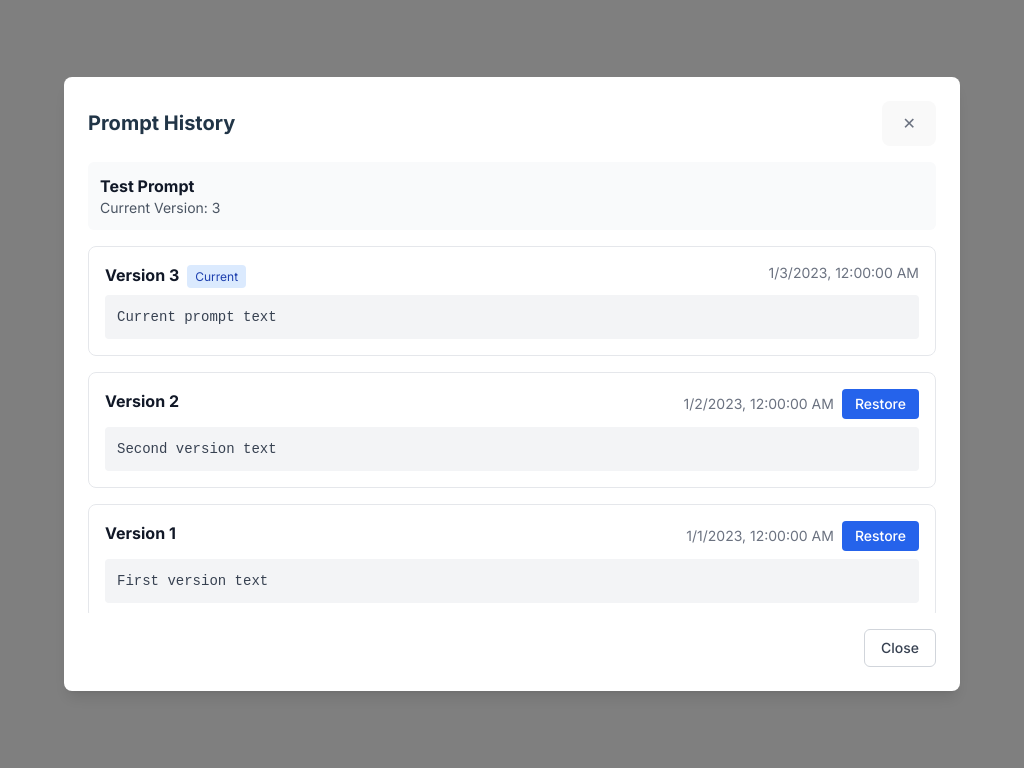
PromptHistoryModal › shows error when restore fails
Check: the text "Version 2" is shown, box [105,391,179,411]
Click the button "Restore" next to "1/2/2023, 12:00:00 AM" at (880, 404), box [842,389,919,419]
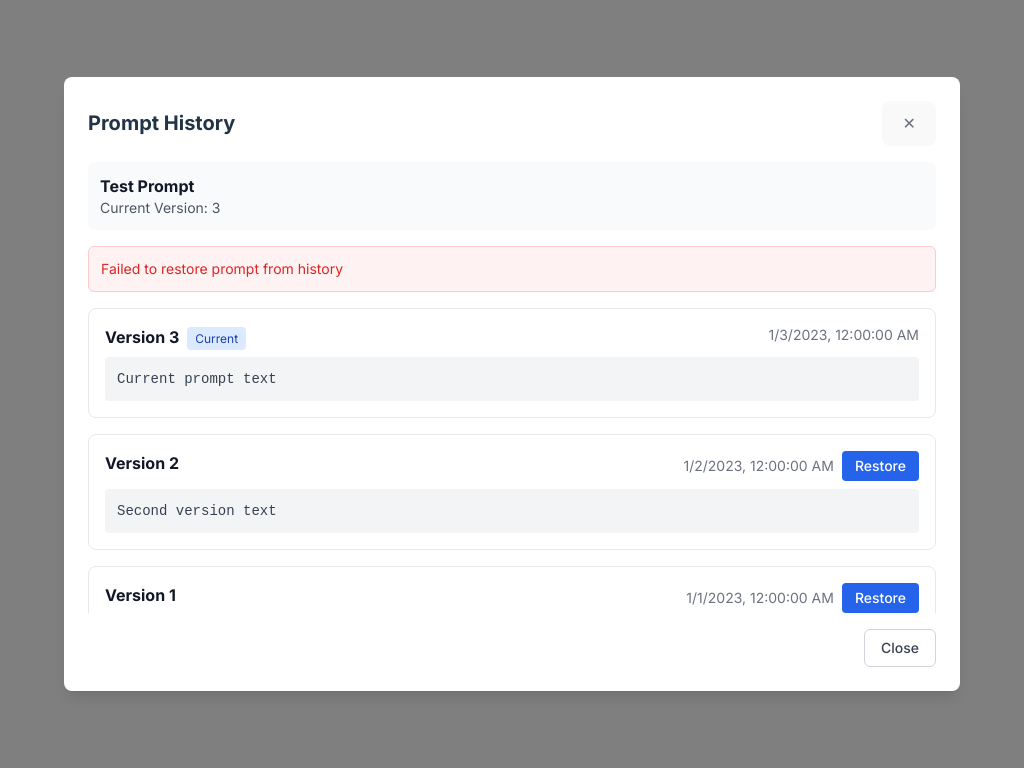
Check: the text "Failed to restore prompt from history" is shown, box [101,260,343,277]
